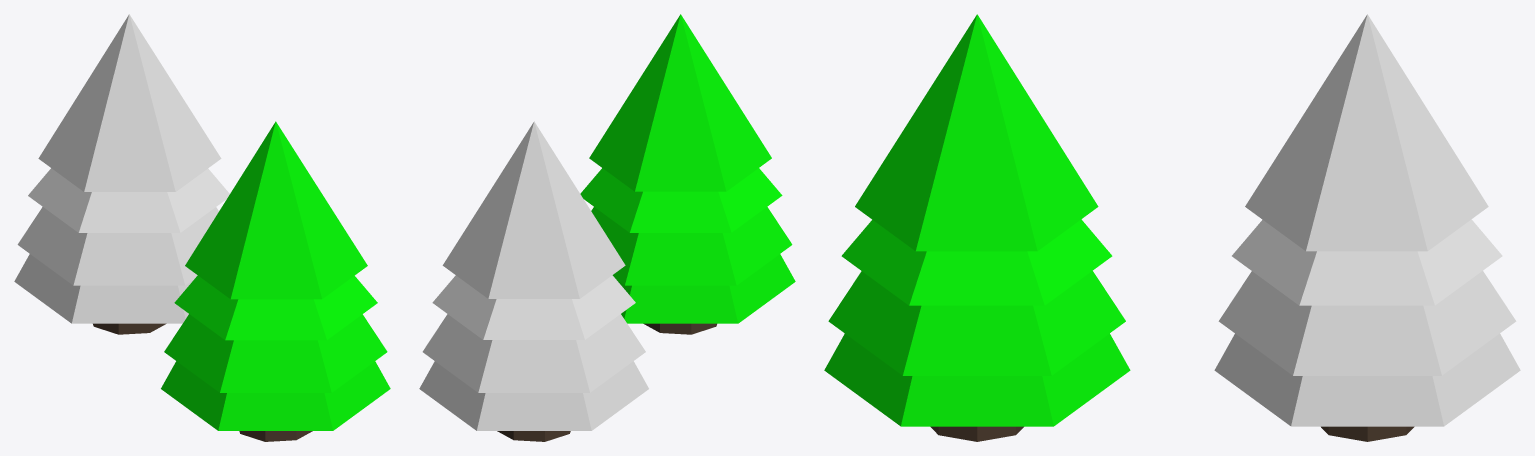
File: christmastree.fbx
The picture shows the model from 3 angles, left to right: view 1: azimuth 30°, elevation 25°; view 2: azimuth 150°, elevation 25°; view 3: azimuth 270°, elevation 25°; orthographic projection. The views are drawn at different scales.
Parts seen in each view (by area): view 1: Cone.003, Cone.007, Cone.001, Cone.005, Cone, Cone.002, Cone.006, Cone.004, Cylinder.001, Cylinder; view 2: Cone.003, Cone.007, Cone.005, Cone.001, Cone.004, Cone.002, Cone.006, Cone, Cylinder, Cylinder.001; view 3: Cone.003, Cone.007, Cone.001, Cone.005, Cone.004, Cone, Cone.002, Cone.006, Cylinder, Cylinder.001.
Part boxes in pixels (x1,y1,x2,y2): Cone.003: (185, 121, 367, 299); Cone.007: (38, 14, 221, 191); Cone.001: (164, 314, 387, 392); Cone.005: (17, 207, 218, 285); Cone: (161, 361, 390, 430); Cone.002: (174, 275, 377, 340); Cone.006: (28, 168, 229, 232); Cone.004: (14, 254, 193, 323); Cylinder.001: (93, 323, 166, 334); Cylinder: (239, 431, 312, 441); Cone.003: (589, 14, 771, 191); Cone.007: (442, 121, 625, 298); Cone.005: (422, 314, 645, 392); Cone.001: (591, 207, 792, 285); Cone.004: (419, 361, 648, 430); Cone.002: (580, 168, 782, 232); Cone.006: (432, 275, 635, 339); Cone: (617, 254, 795, 323); Cylinder: (643, 323, 716, 334); Cylinder.001: (497, 431, 570, 441); Cone.003: (855, 14, 1098, 251); Cone.007: (1245, 14, 1488, 251); Cone.001: (828, 271, 1125, 375); Cone.005: (1218, 271, 1516, 375); Cone.004: (1214, 333, 1520, 426); Cone: (824, 333, 1130, 426); Cone.002: (841, 219, 1112, 305); Cone.006: (1232, 219, 1502, 305); Cylinder: (930, 426, 1023, 441); Cylinder.001: (1321, 426, 1414, 441).
Bounding box in the file's own units: 178 × 300 × 468.
